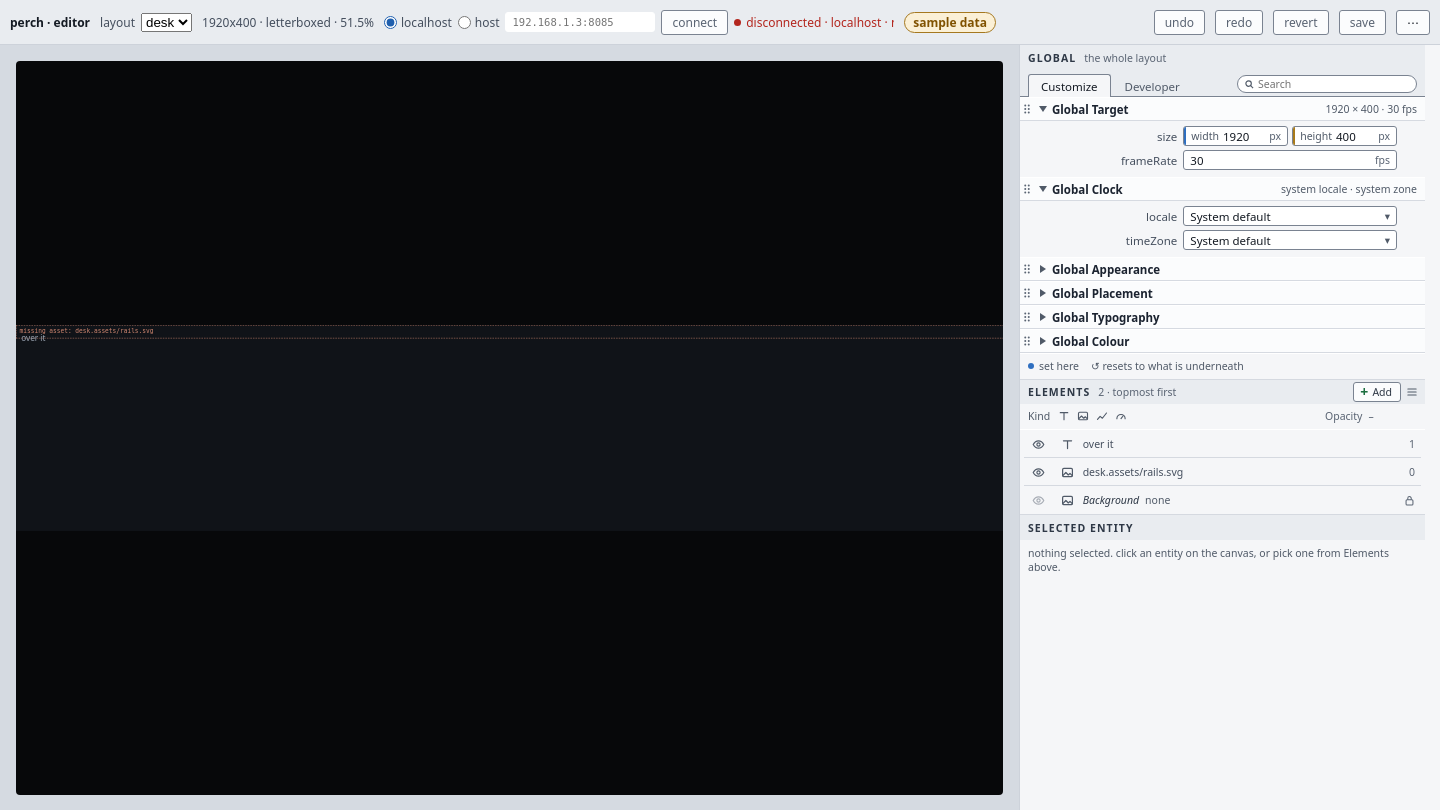
the Add menu's media › turns each off, saying why, when there is nothing to choose from
Step 1. Click the button with aria-label "add an element" → click(1377, 392), box x1=1353 y1=382 x2=1401 y2=402
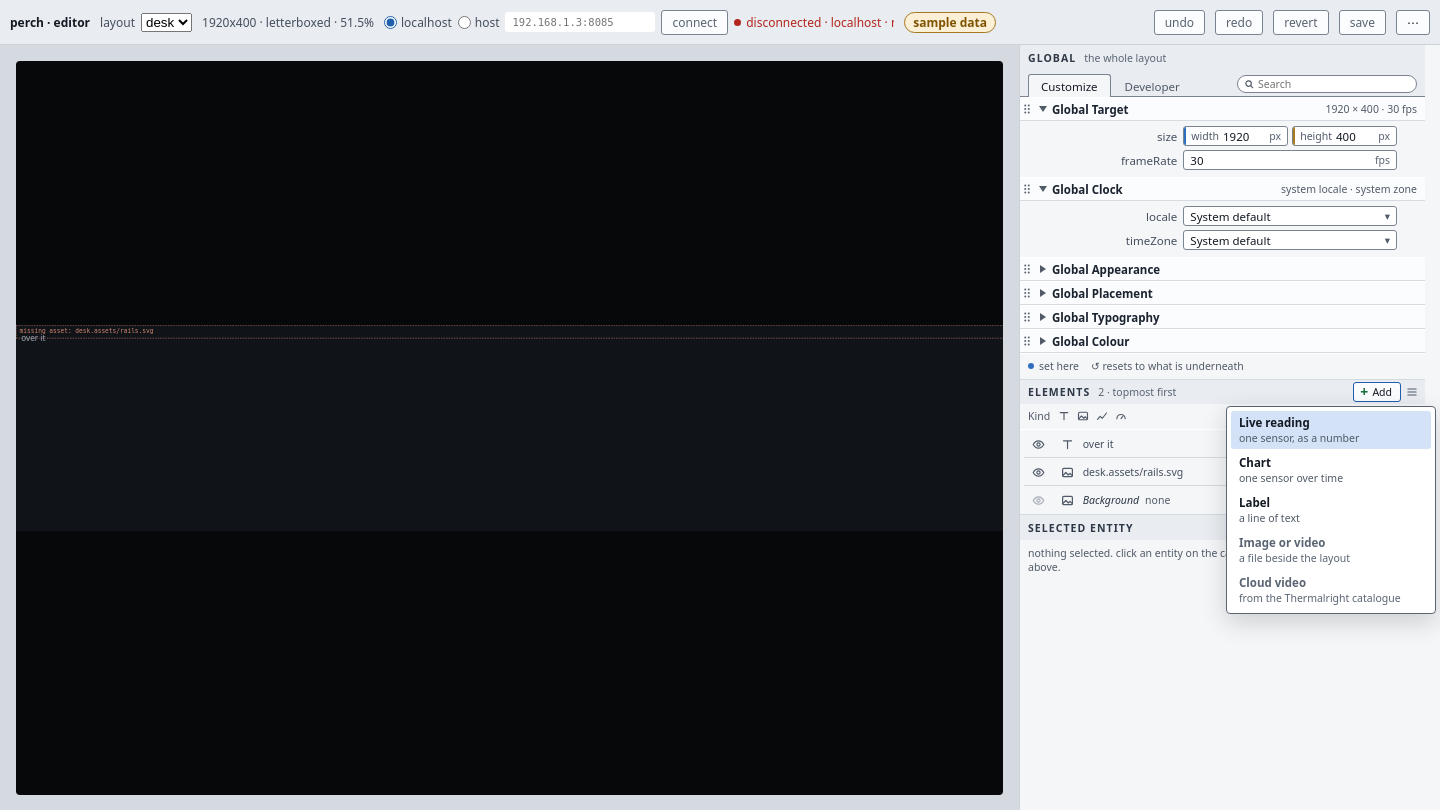
Now the button "Image or video a file beside the layout" is disabled, box x1=1231 y1=531 x2=1431 y2=569
Now the button "Cloud video from the Thermalright catalogue" is disabled, box x1=1231 y1=571 x2=1431 y2=609
Now the button "Label a line of text" is enabled, box x1=1231 y1=491 x2=1431 y2=529
